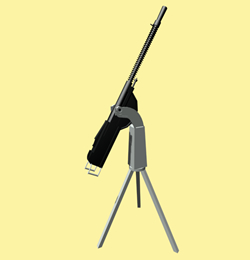rifle: (76, 6, 168, 245)
